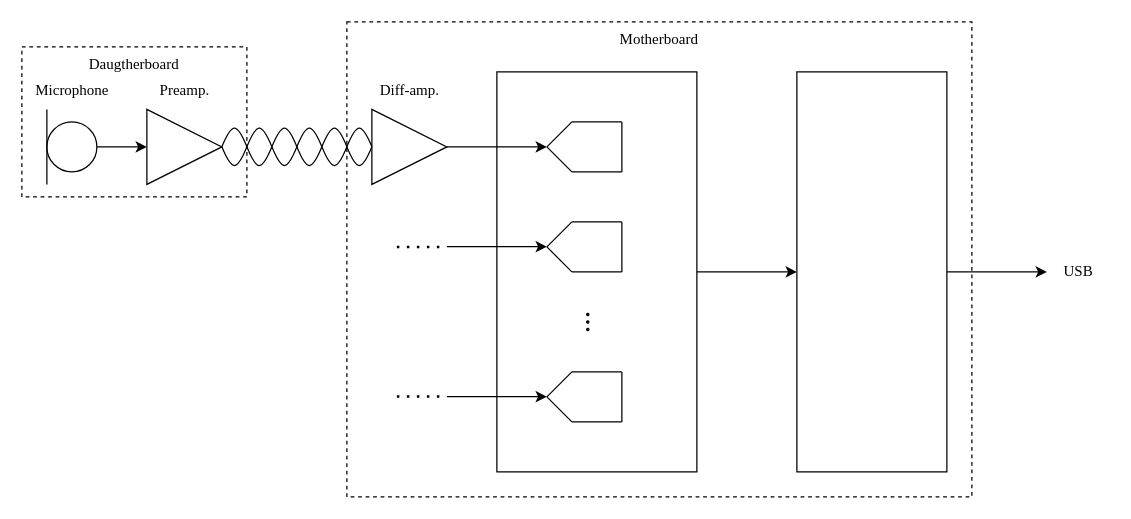
The diagram is 1131 pixels wide and 519 high, and some of its shapes have lost their labels. The box of each missing label's shape, as (x1, y1, x2, y2) in pixels:
ADC: (496, 71, 697, 472)
STM32: (796, 71, 947, 472)
